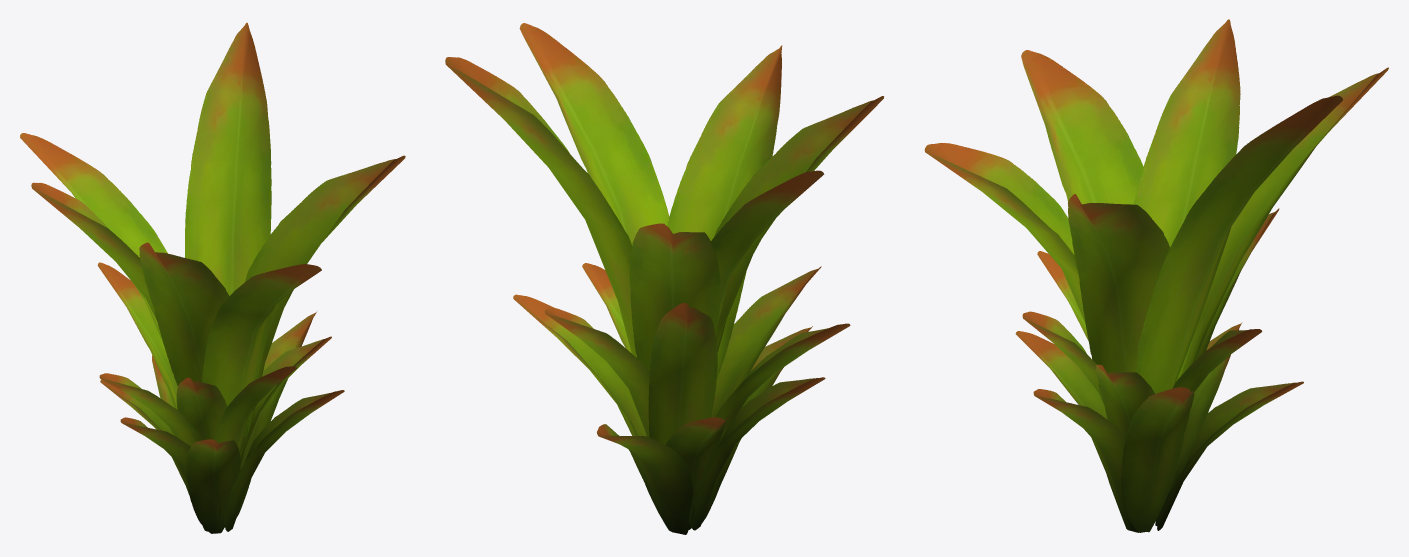
File: Plant_1_Big.glb
3 views of the same model, side by side, from view 1: azimuth 30°, elevation 25°; view 2: azimuth 150°, elevation 25°; view 3: azimuth 270°, elevation 25° (orthographic). The views are drawn at different scales.
Visible parts, largest first — view 1: Plant_1_Big; view 2: Plant_1_Big; view 3: Plant_1_Big.
Part boxes in pixels (x1,y1,x2,y2): Plant_1_Big: (20,22,405,533); Plant_1_Big: (445,23,883,534); Plant_1_Big: (924,19,1388,532).
Bounding box in the file's own units: 1.81 × 2.35 × 1.95.
1 material, 1 textured.
